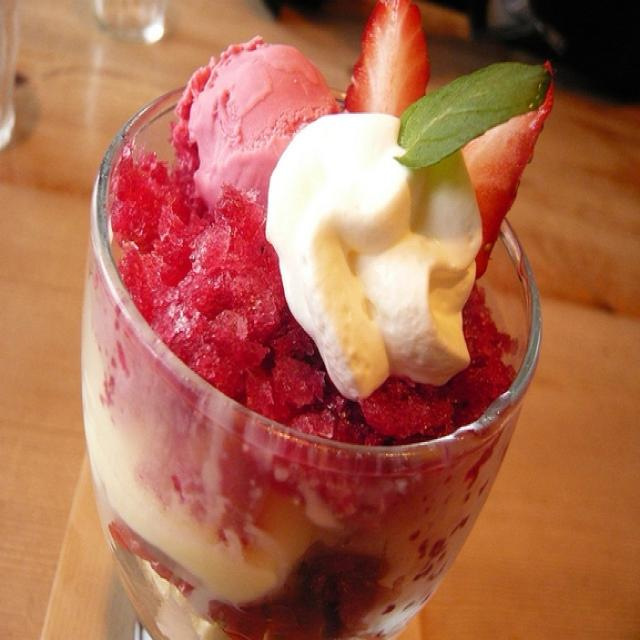蛋糕甜品: (61, 18, 551, 612)
